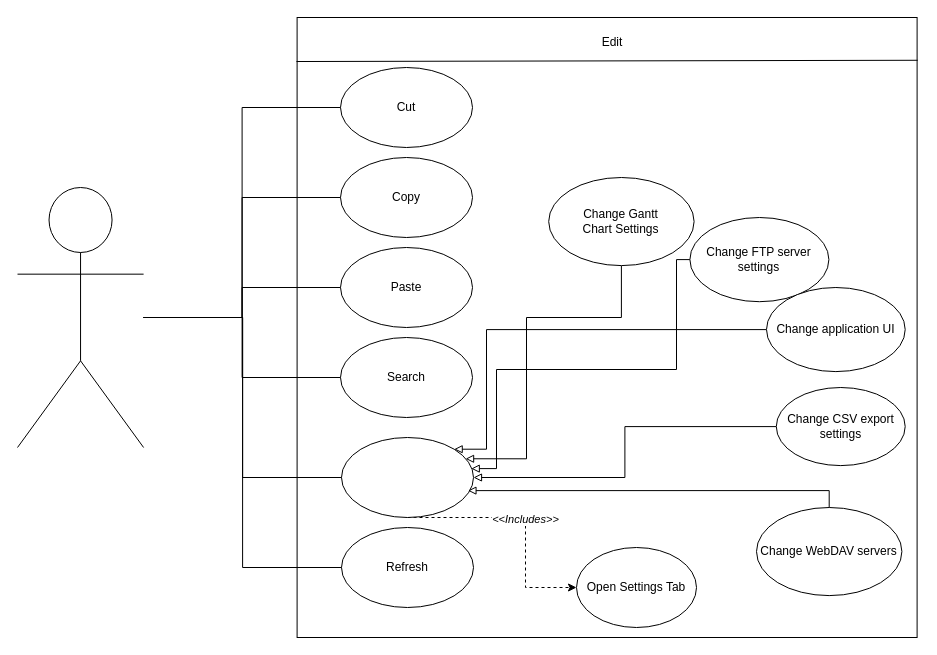
This 937x655 diagram has some shape labels left out. The box of each missing label's shape, as (x1, y1, x2, y2) in pixels:
Settings: (340, 436, 474, 518)
User: (16, 186, 144, 448)
